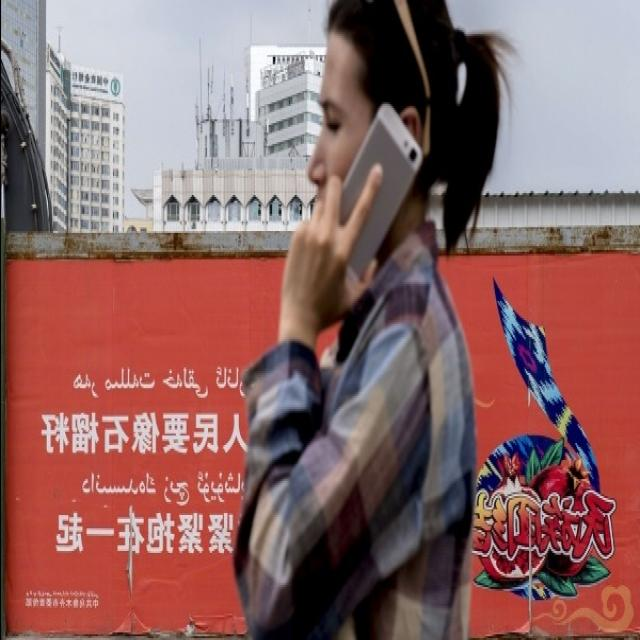phone: (264, 89, 429, 326)
